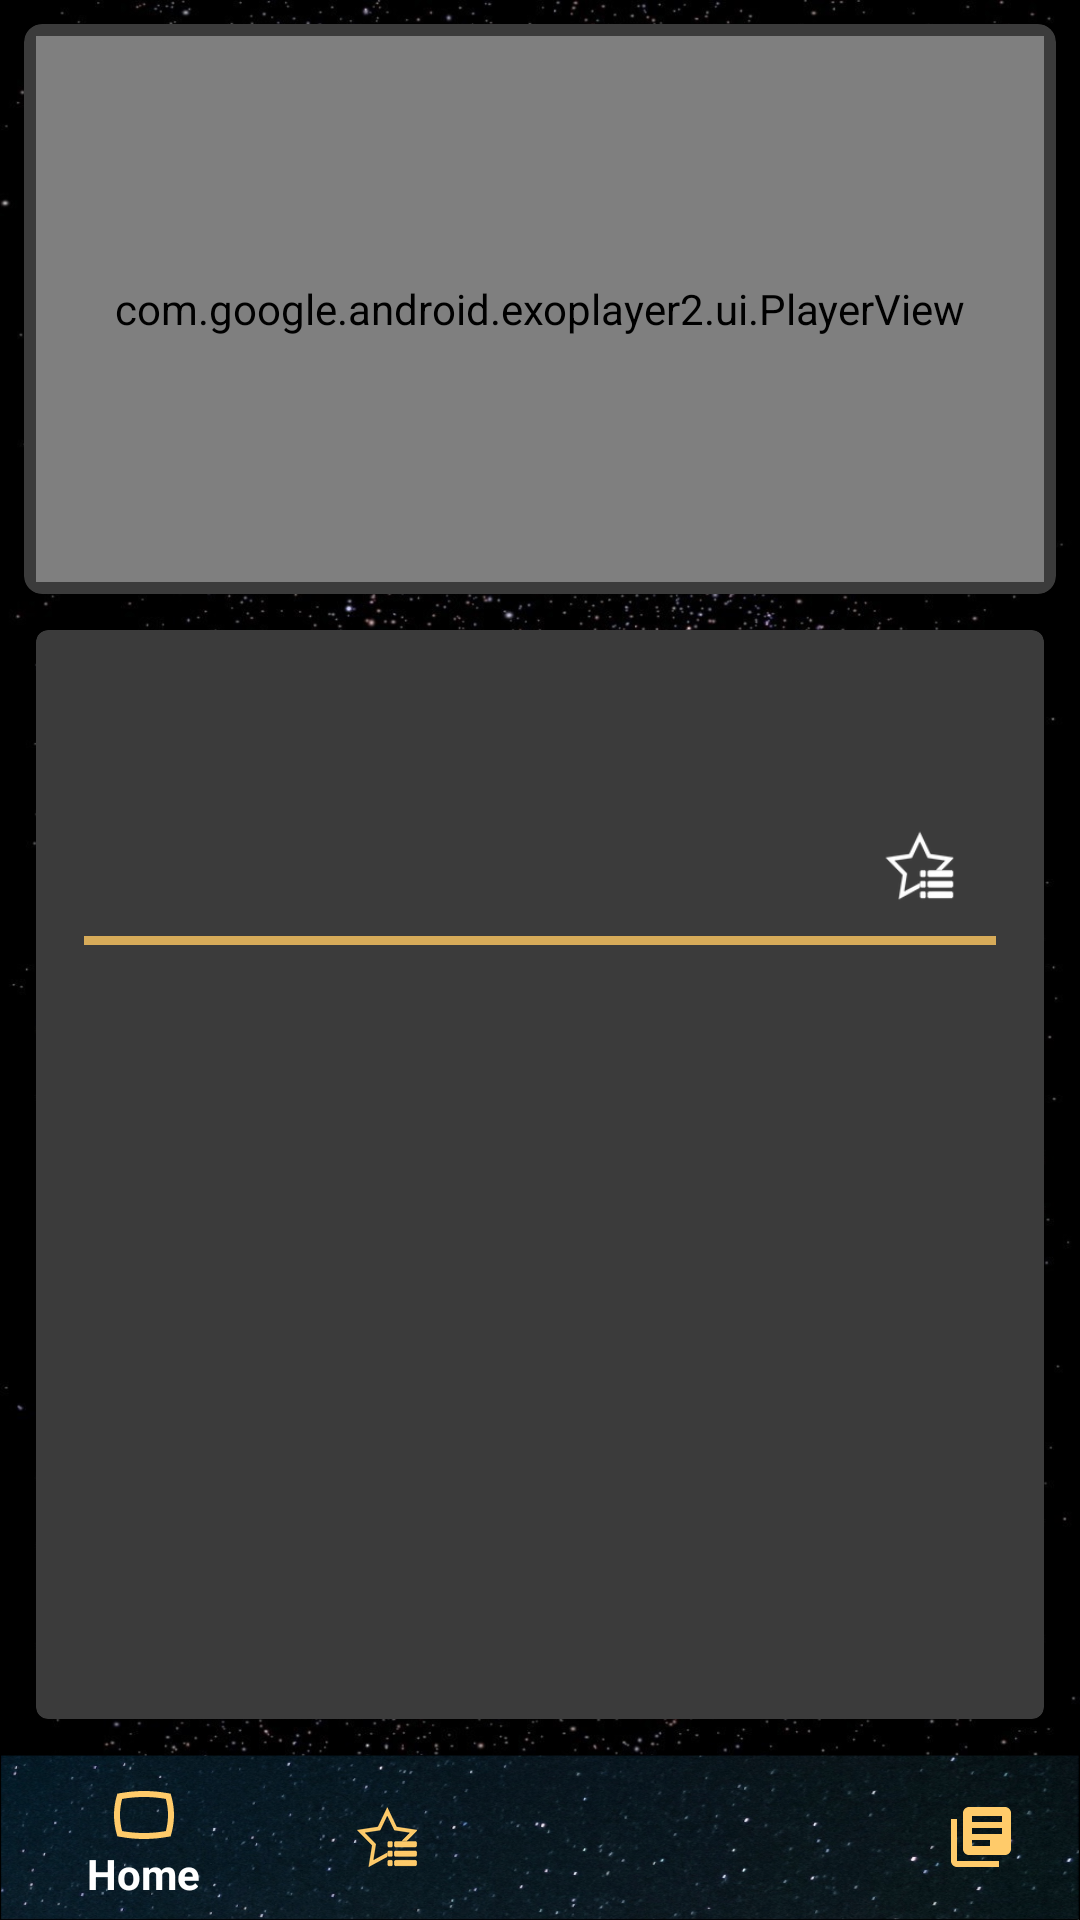

Named icons in this screenshot (1080 × 1920) and their bounding boxes, (x1, y1, x2, y2):
Video Watchlist Button: (886, 832, 954, 900)
